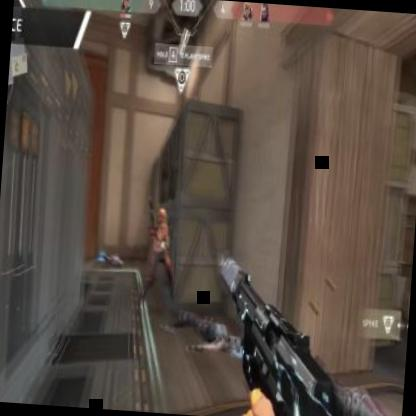enemy: (140, 207, 183, 318)
enemy_head: (158, 208, 169, 226)
